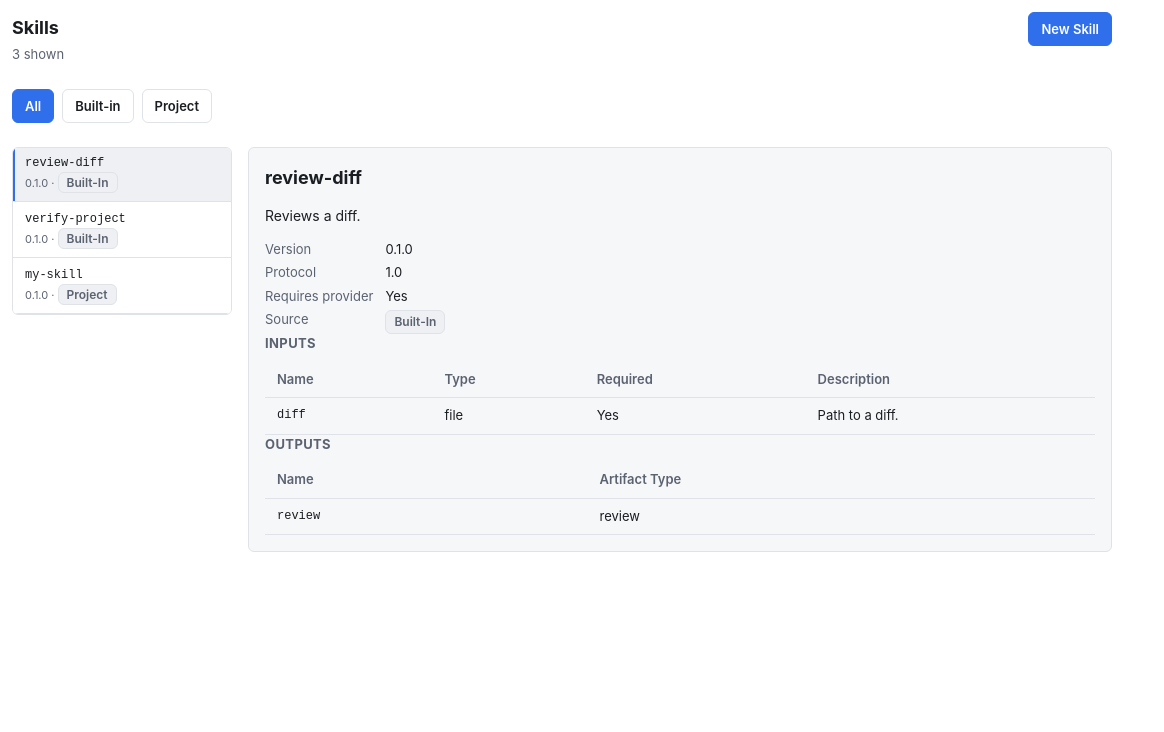
Test: SkillsPage › shows inputs/outputs for the selected skill
Click the text "verify-project". click: point(75, 218)
box: [25,212,126,226]
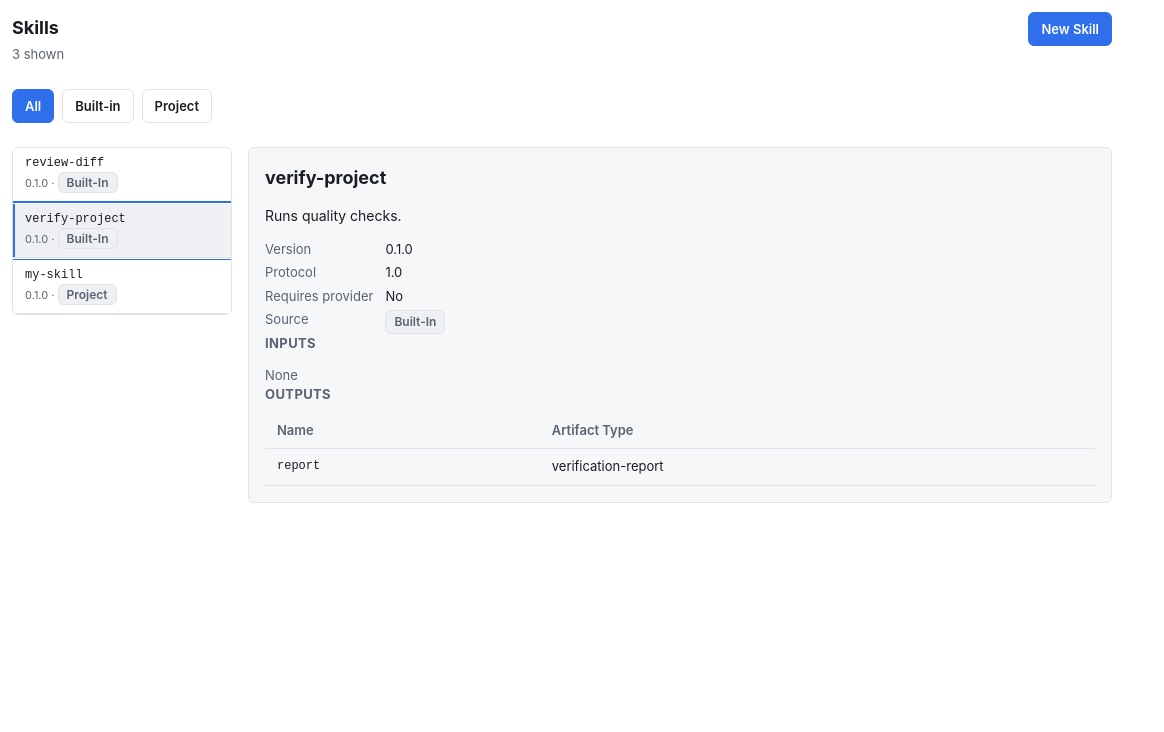
Expected: the text "Runs quality checks." is shown, [265,206,402,224]
Expected: the text "report" is shown, [265,448,540,485]
